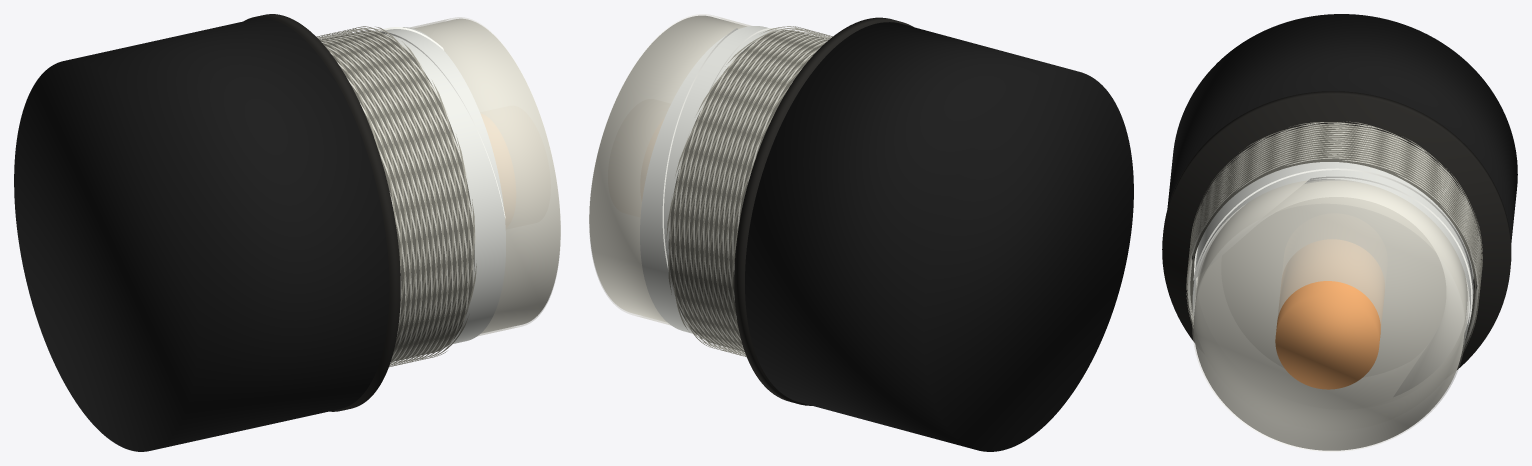
Rendered from rf-lmr900.glb.
3 renders of one model, left to right at view 1: azimuth 30°, elevation 25°; view 2: azimuth 150°, elevation 25°; view 3: azimuth 270°, elevation 25°, orthographic. The views are drawn at different scales.
Parts seen in each view (by area): view 1: matte black pvc jacket body, smooth dielectric skin, gas injected foam dielectric, braid dark diamond recess, duobond foil sleeve, jacket cut lip, braid left hand woven carrier 06, braid left hand woven carrier 05, braid left hand woven carrier 07, braid left hand woven carrier 04, braid left hand woven carrier 08, braid left hand woven carrier 03 (+19 smaller); view 2: matte black pvc jacket body, smooth dielectric skin, gas injected foam dielectric, braid dark diamond recess, duobond foil sleeve, jacket cut lip, braid left hand woven carrier 02, braid left hand woven carrier 16, braid left hand woven carrier 15, braid left hand woven carrier 01, braid left hand woven carrier 14, braid left hand woven carrier 03 (+16 smaller); view 3: gas injected foam dielectric, matte black pvc jacket body, jacket cut lip, solid center conductor continuous, braid dark diamond recess, smooth dielectric skin, duobond foil sleeve, subtle foil wrap lap, braid left hand woven carrier 09, braid left hand woven carrier 08, braid left hand woven carrier 07, braid left hand woven carrier 11 (+28 smaller).
Boxes of the visible parts, box(x1,y1,x2,y2) form: matte black pvc jacket body: box(14, 18, 389, 451); smooth dielectric skin: box(410, 17, 560, 335); gas injected foam dielectric: box(414, 18, 560, 333); braid dark diamond recess: box(320, 30, 474, 361); duobond foil sleeve: box(381, 27, 505, 344); jacket cut lip: box(244, 14, 400, 411); braid left hand woven carrier 06: box(342, 27, 443, 366); braid left hand woven carrier 05: box(337, 28, 438, 365); braid left hand woven carrier 07: box(348, 26, 448, 366); braid left hand woven carrier 04: box(332, 30, 433, 363); braid left hand woven carrier 08: box(375, 26, 453, 366); braid left hand woven carrier 03: box(327, 31, 427, 360); matte black pvc jacket body: box(745, 22, 1133, 451); smooth dielectric skin: box(589, 14, 751, 325); gas injected foam dielectric: box(589, 15, 746, 322); braid dark diamond recess: box(668, 30, 828, 351); duobond foil sleeve: box(640, 26, 778, 334); jacket cut lip: box(734, 17, 913, 405); braid left hand woven carrier 02: box(678, 35, 832, 348); braid left hand woven carrier 16: box(688, 38, 830, 351); braid left hand woven carrier 15: box(692, 40, 827, 353); braid left hand woven carrier 01: box(683, 37, 831, 350); braid left hand woven carrier 14: box(697, 43, 824, 354); braid left hand woven carrier 03: box(673, 34, 832, 329); gas injected foam dielectric: box(1193, 180, 1467, 450); matte black pvc jacket body: box(1167, 14, 1517, 243); jacket cut lip: box(1162, 91, 1511, 369); solid center conductor continuous: box(1275, 239, 1384, 389); braid dark diamond recess: box(1190, 124, 1477, 340); smooth dielectric skin: box(1192, 180, 1468, 451); duobond foil sleeve: box(1192, 162, 1473, 345); subtle foil wrap lap: box(1193, 168, 1473, 396); braid left hand woven carrier 09: box(1187, 124, 1481, 299); braid left hand woven carrier 08: box(1187, 122, 1481, 296); braid left hand woven carrier 07: box(1187, 121, 1482, 294); braid left hand woven carrier 11: box(1186, 128, 1481, 318).
Size of the model in its own units: 6.65 by 5.58 by 5.68.
